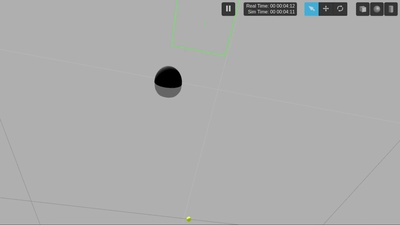mira_robot: (155, 64, 183, 98)
